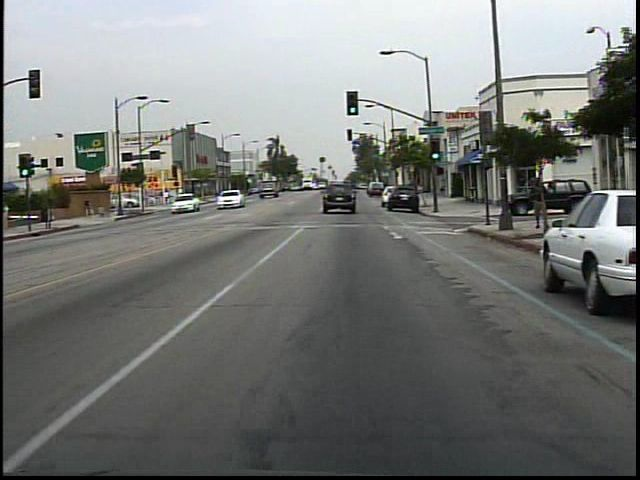person: (527, 171, 551, 230), (83, 192, 102, 220), (162, 187, 172, 208)
